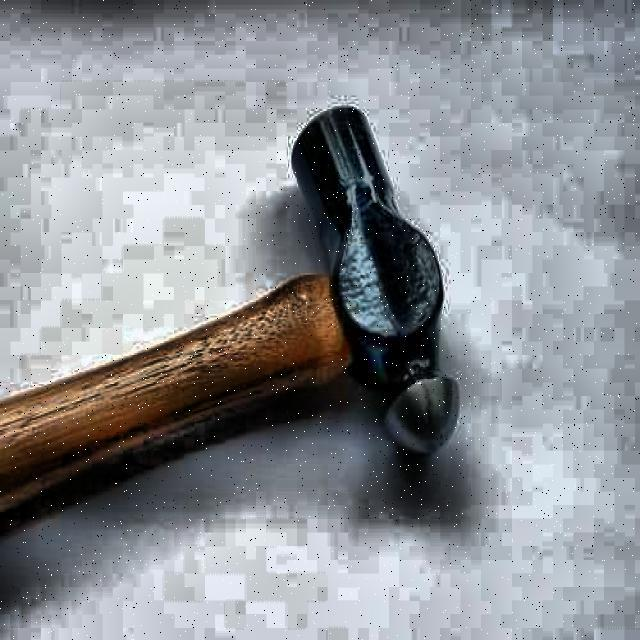hammer: (0, 101, 459, 539)
